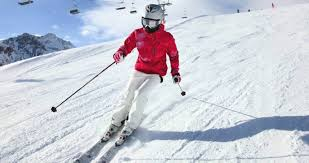skier: (48, 4, 185, 162)
